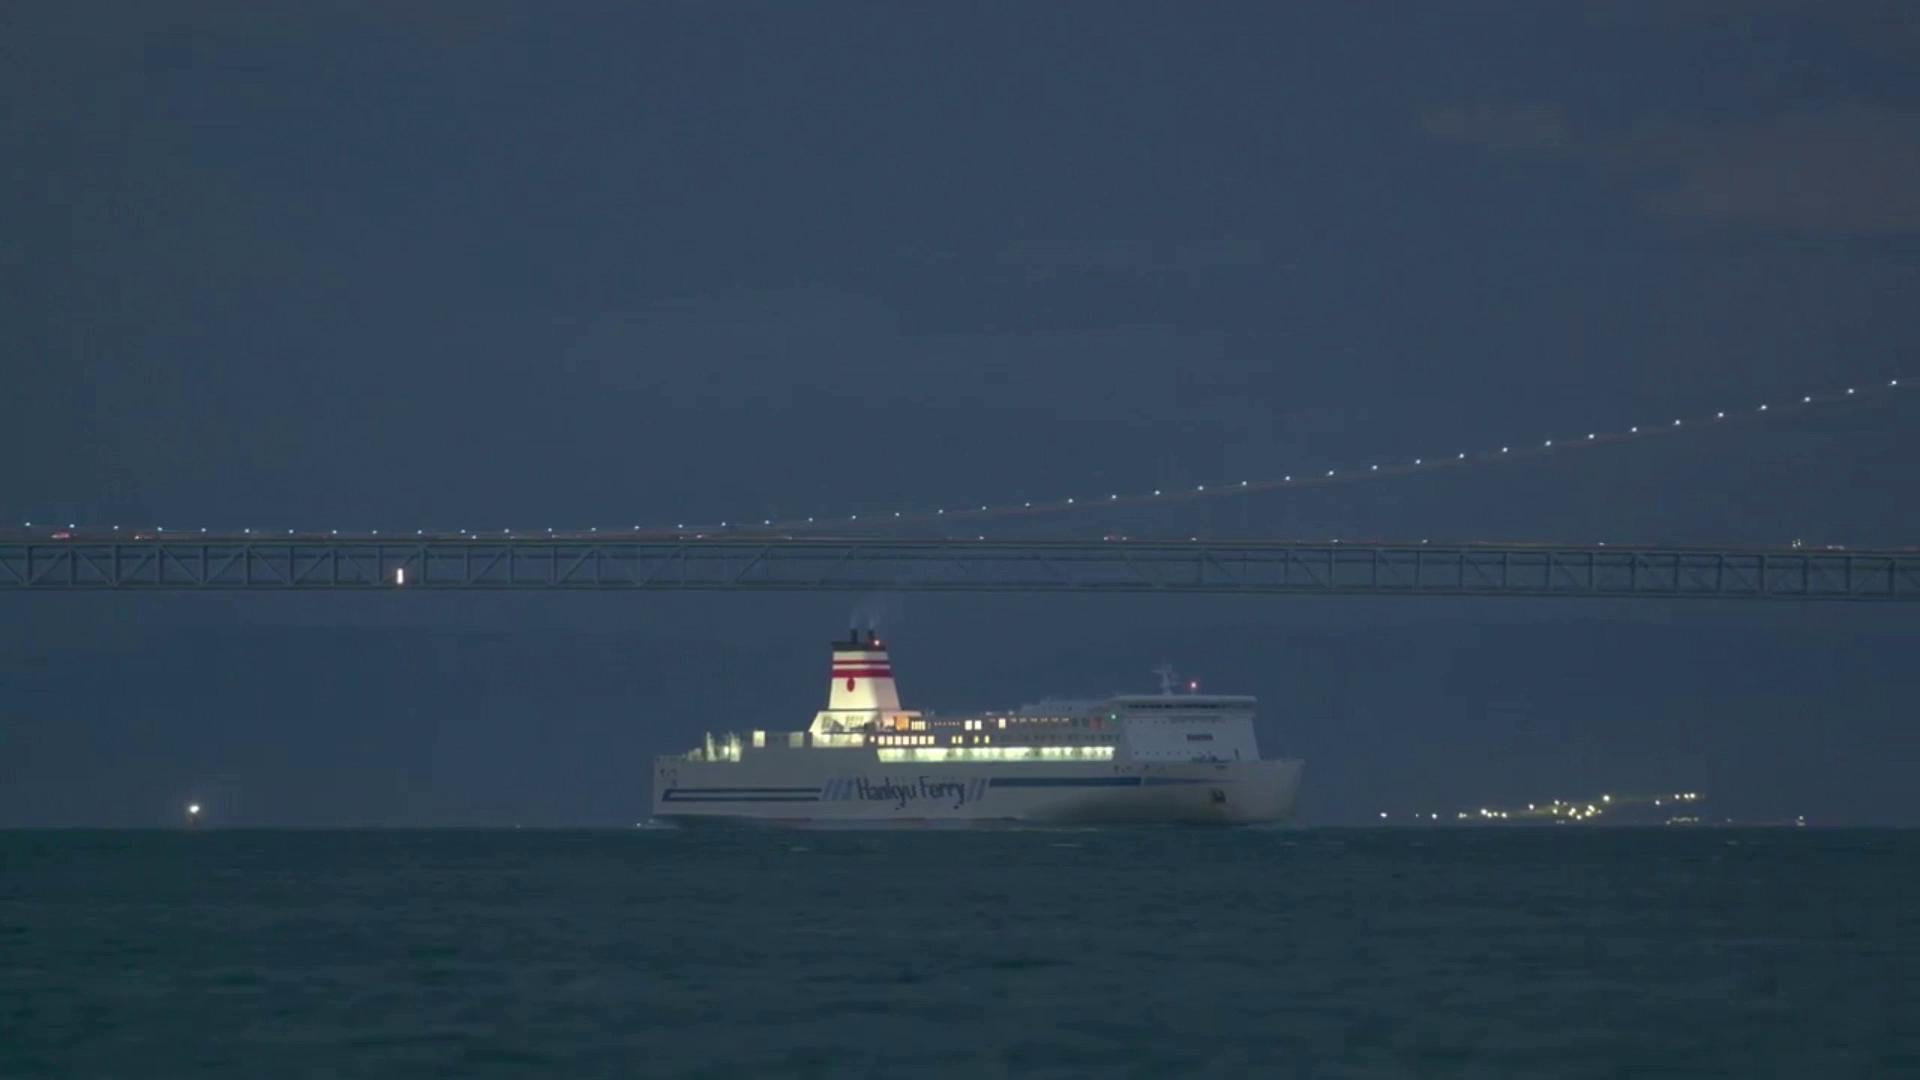OCR: (841, 775, 965, 810)
